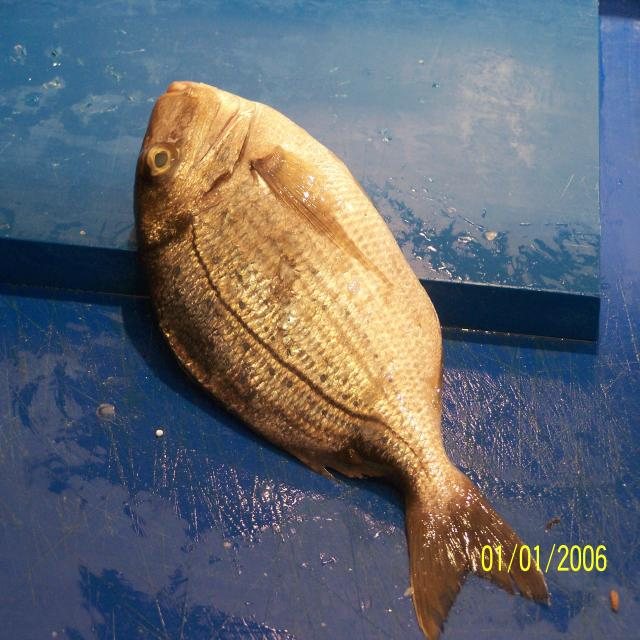Red-Sea-Bream-mercan-: (132, 81, 566, 640)
